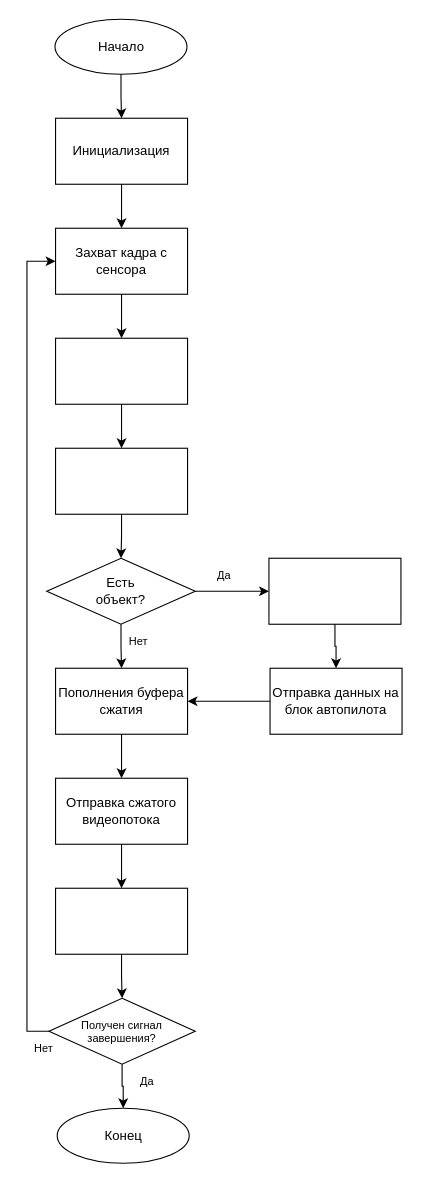
This 421x1183 diagram has some shape labels left out. Here are the shapes that lost their labels. From the top down, the centre of each, then its label:
At [121,370]: "Предобработка кадра".
At [121,480]: "Выполнение алгоритма СОН".
At [334,590]: "Отправка координат на наземную систему управления".
At [121,920]: "Обмен метаданными с наземной системой управления".
